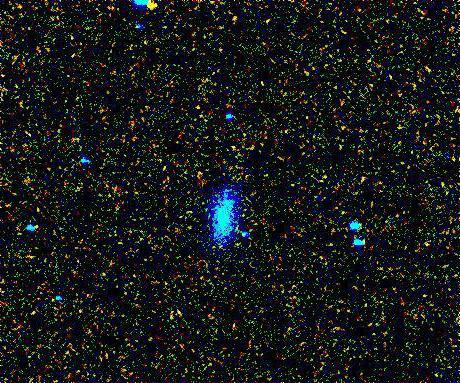star: (137, 0, 167, 19)
